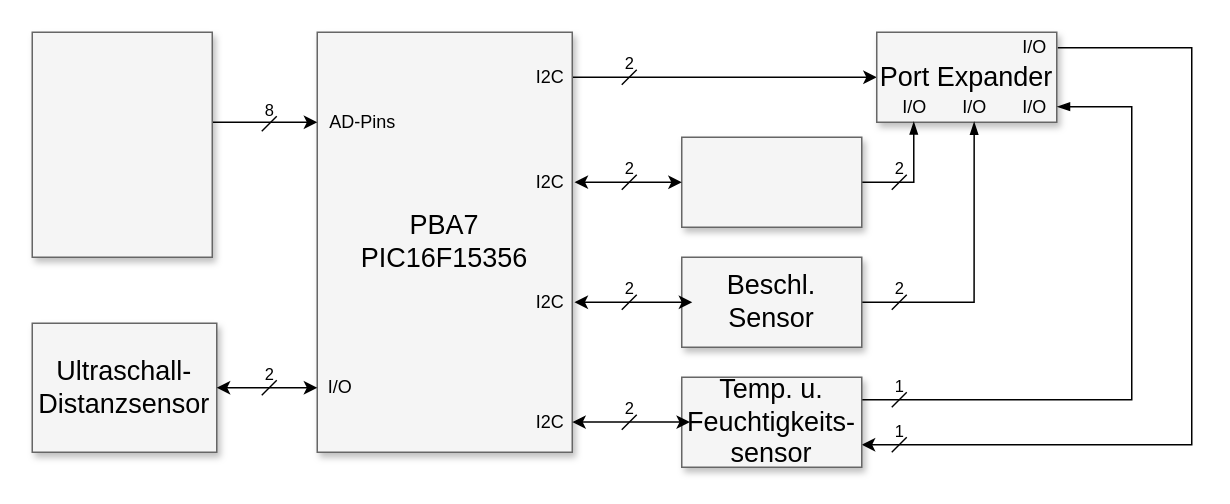
The diagram is 1230 pixels wide and 504 high, and some of its shapes have lost their labels. The shapes that lost their labels are listed below. From the top down, each one's centre as x and y in pixels, then its label:
At point 123,146: "Touch Buttons (kapazitiv)".
At point 772,184: "Gyrosensor".
